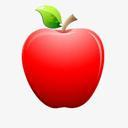apple: (21, 21, 106, 108)
